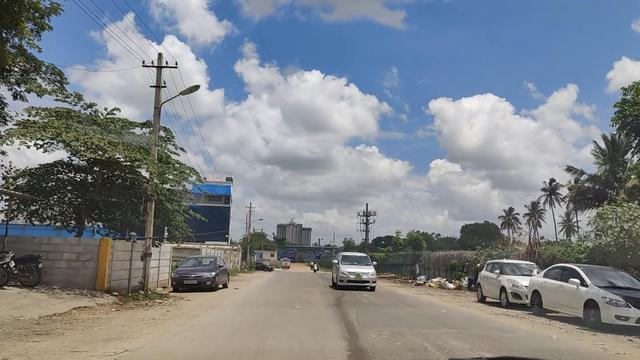LMV: (533, 259, 640, 341), (465, 255, 540, 314), (170, 249, 234, 295), (335, 251, 378, 294)
RoadDamages: (368, 317, 505, 360)
UnsurfacedRoad: (13, 315, 134, 360)
